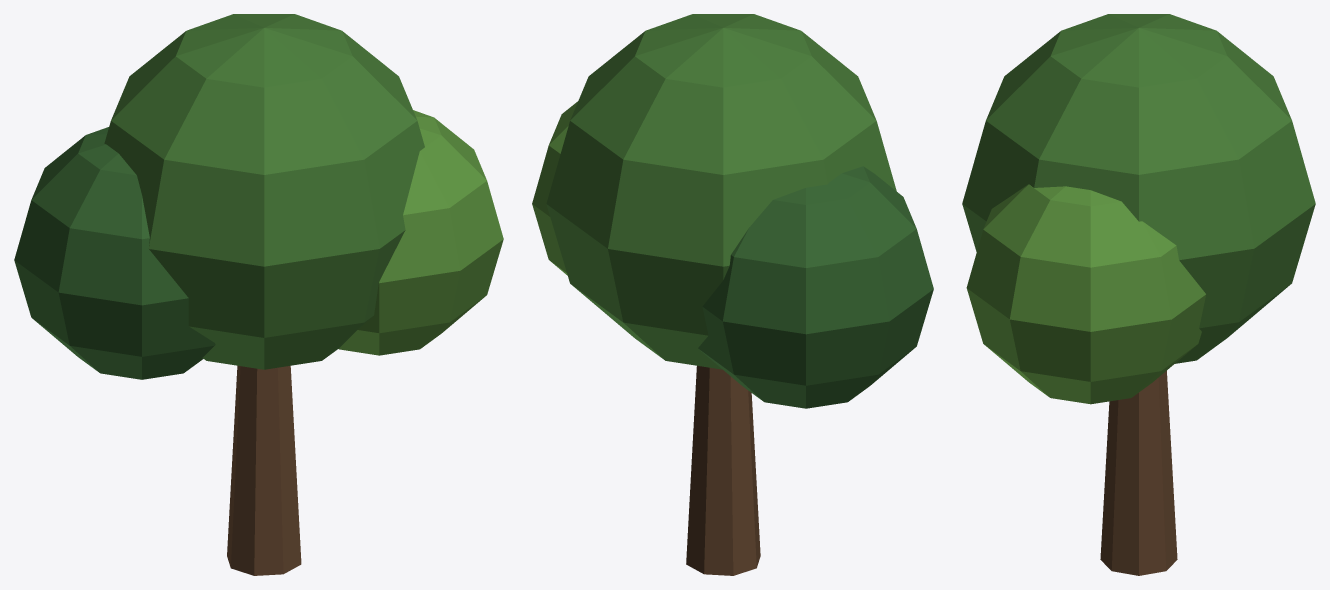
Rendered from willow-tree.obj.
3 views of the same model, side by side, from view 1: azimuth 30°, elevation 25°; view 2: azimuth 150°, elevation 25°; view 3: azimuth 270°, elevation 25° (orthographic).
Parts seen in each view (by area): view 1: willow-tree; view 2: willow-tree; view 3: willow-tree.
Boxes of the visible parts, box(x1,y1,x2,y2) form: willow-tree: box(14, 14, 503, 575); willow-tree: box(532, 14, 933, 575); willow-tree: box(962, 14, 1315, 575).
Size of the model in its own units: 5.38 by 6.7 by 4.04.
